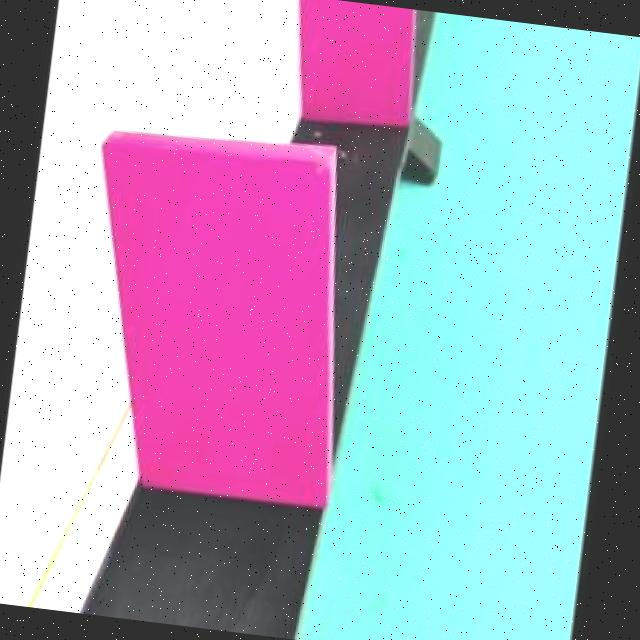xparking: (71, 137, 322, 486), (289, 0, 409, 113)
